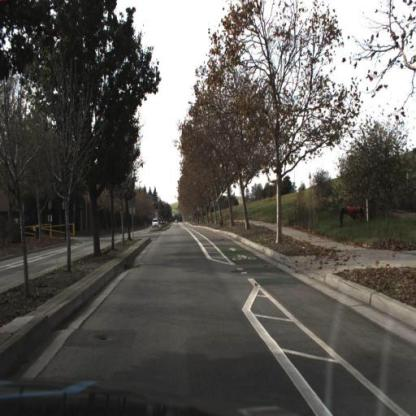car: (153, 219, 159, 229)
